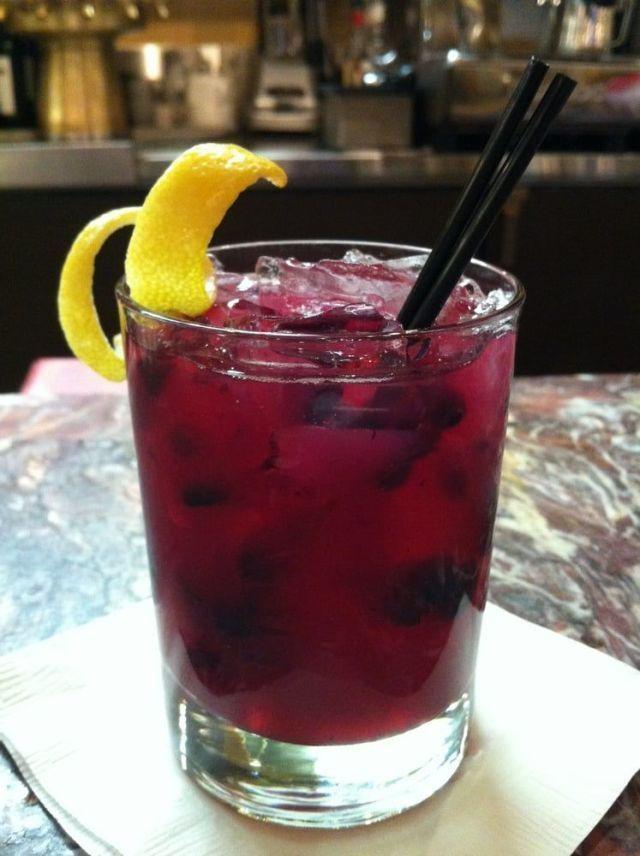glass-normal: (110, 242, 527, 835)
